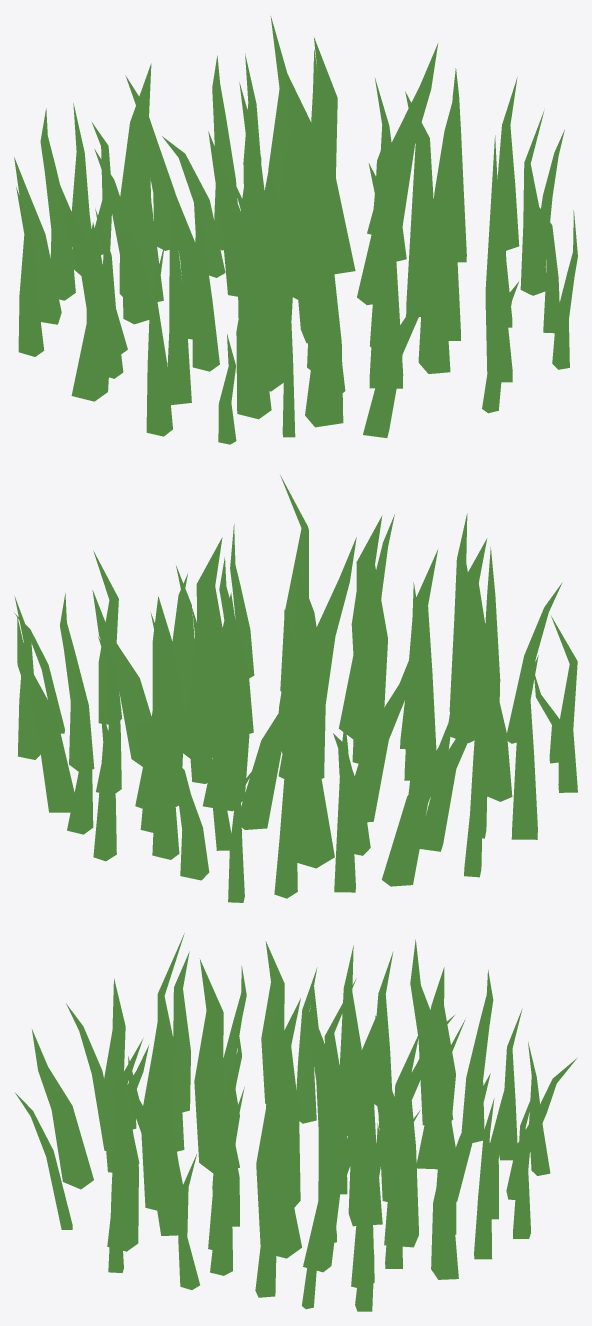
Rendered from Grass_03.glb.
3 views of the same model, one above another, from view 1: azimuth 30°, elevation 25°; view 2: azimuth 150°, elevation 25°; view 3: azimuth 270°, elevation 25° (orthographic). The views are drawn at different scales.
Visible parts, largest first — view 1: Grass_03_LOD0; view 2: Grass_03_LOD0; view 3: Grass_03_LOD0.
Boxes of the visible parts, <box> form: Grass_03_LOD0: <box>14,16,577,444</box>; Grass_03_LOD0: <box>14,475,577,902</box>; Grass_03_LOD0: <box>15,933,577,1311</box>.
Size of what is drawn, in the model's own units: 0.7713 by 0.3384 by 0.808.
Materials: 1 (1 with a texture image).
